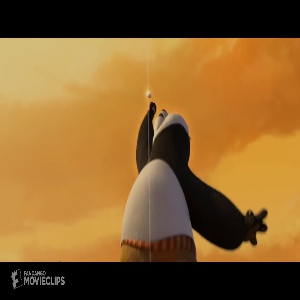po: (118, 85, 270, 262)
